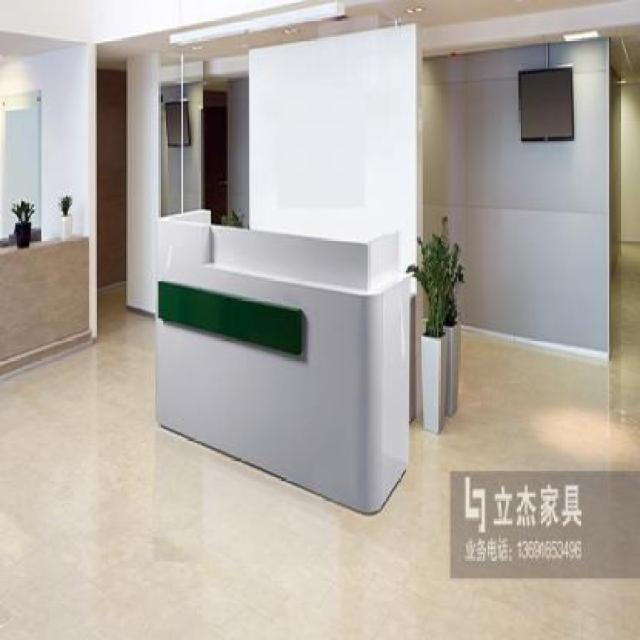frontdesk: (148, 194, 424, 523)
